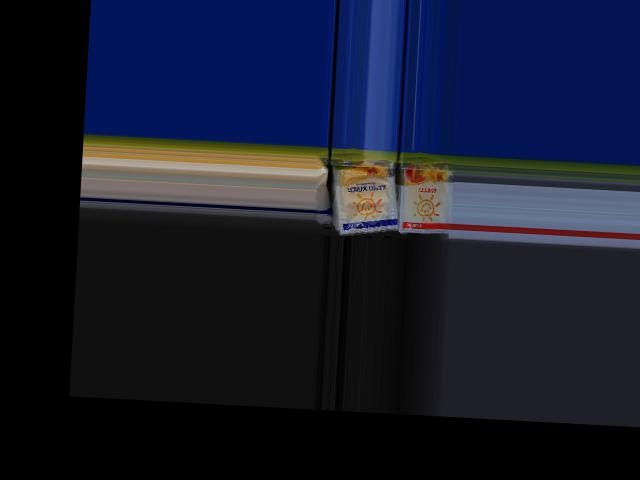cheese: (397, 151, 456, 239)
